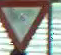Give way: (1, 0, 51, 50)
